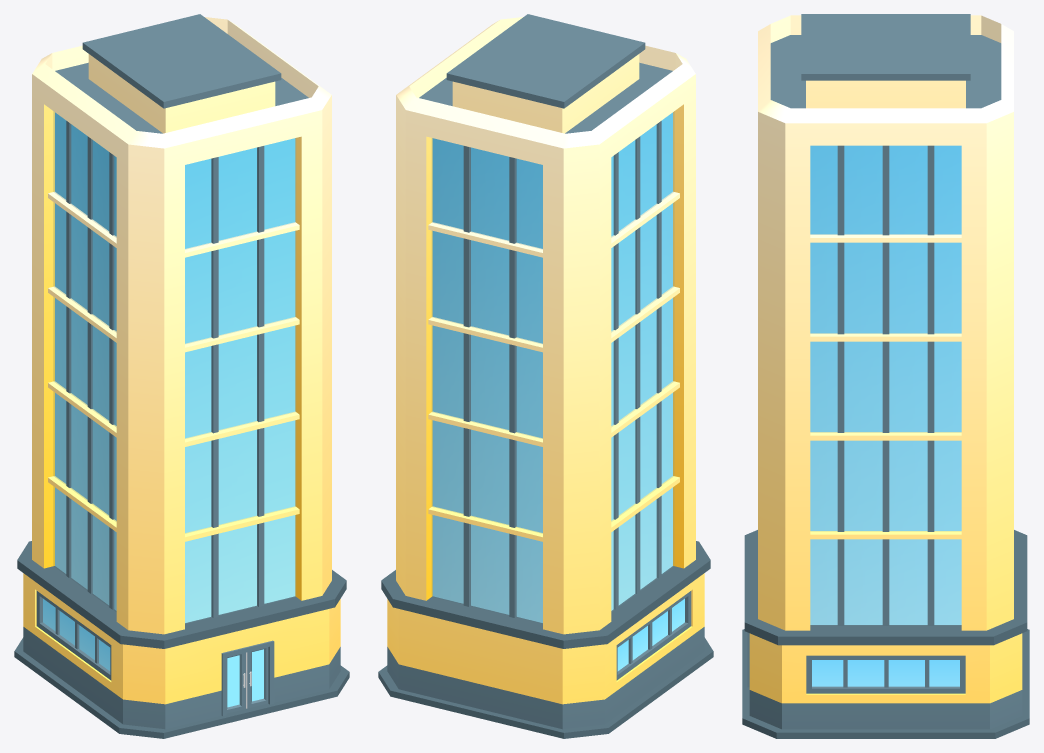
File: city2-building-living-46.glb
3 renders of one model, left to right at view 1: azimuth 30°, elevation 25°; view 2: azimuth 150°, elevation 25°; view 3: azimuth 270°, elevation 25°, orthographic. The views are drawn at different scales.
Visible parts, largest first — view 1: Building_Living_46; view 2: Building_Living_46; view 3: Building_Living_46.
Boxes of the visible parts, bbox=[...] form: Building_Living_46: bbox=[14, 14, 349, 738]; Building_Living_46: bbox=[378, 14, 713, 738]; Building_Living_46: bbox=[742, 14, 1029, 738].
Size of the model in its own units: 8.92 by 22.58 by 9.23.
2 materials, 2 textured.
